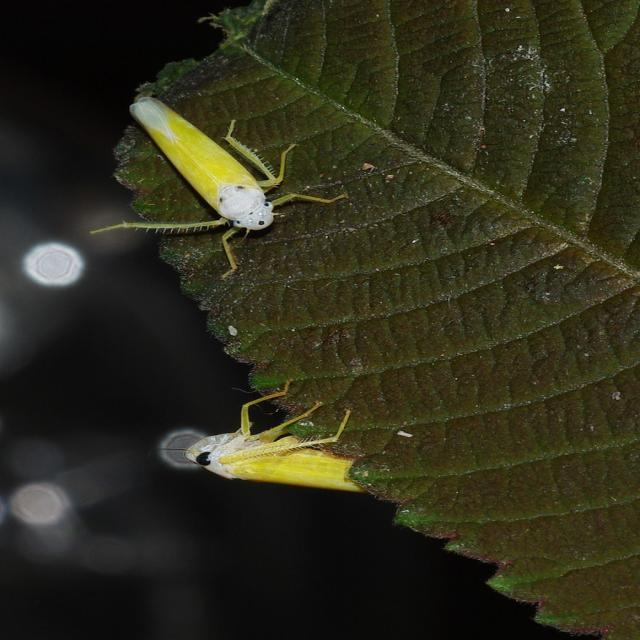Yechan: (107, 91, 306, 256), (165, 404, 404, 502)
